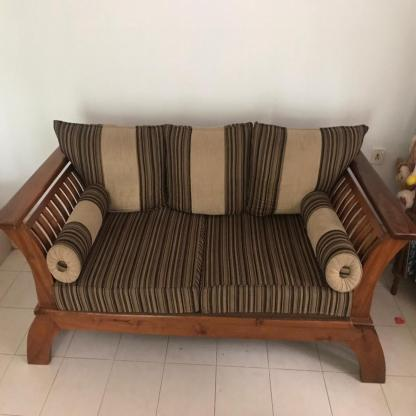Sofa: (2, 123, 414, 383)
